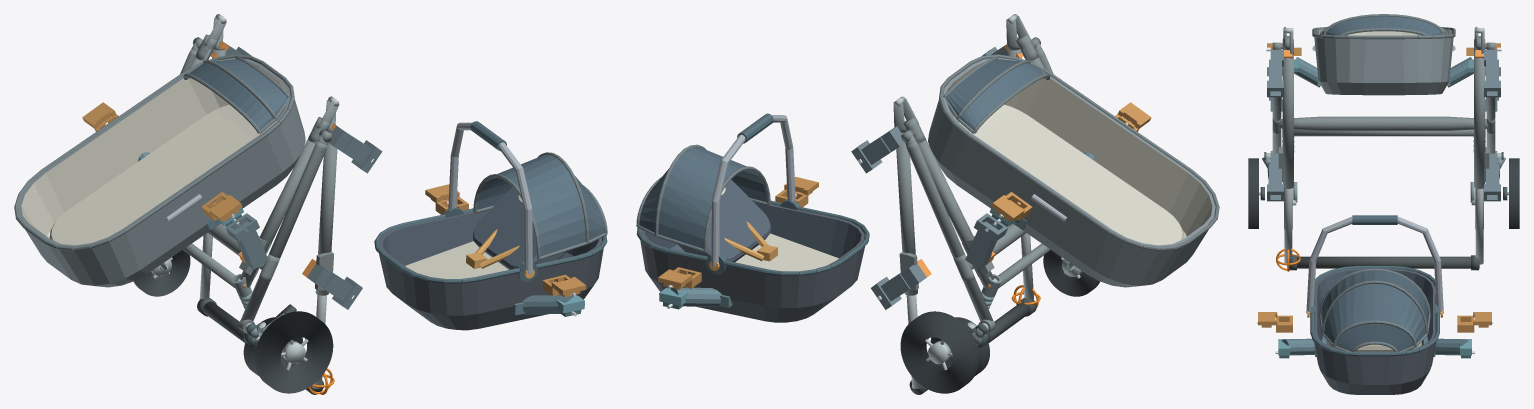
The model's file is D07_w650_state3_wheel_S.glb.
The picture shows the model from 3 angles, left to right: view 1: azimuth 30°, elevation 25°; view 2: azimuth 150°, elevation 25°; view 3: azimuth 270°, elevation 25°; orthographic projection. The views are drawn at different scales.
Parts seen in each view (by area): view 1: D07_Lower, D07_Upper, RL_tire.011, V46_rear_leg_-1.011, main_lower_-1.012, main_upper_-1.012, D07_Upper_Mount_H, Universal_Cabin_Receiver_L_-1, FR_tire.011, Universal_Cabin_Receiver_H_-1, Universal_Cabin_Receiver_M_-1, D02_WideAdapter_L_-1 (+6 smaller); view 2: D07_Lower, D07_Upper, RR_tire.011, V46_rear_leg_1.011, main_lower_1.012, main_upper_1.012, D07_Upper_Mount_H, Universal_Cabin_Receiver_L_1, FL_tire.011, Universal_Cabin_Receiver_H_1, Universal_Cabin_Receiver_M_1, D02_WideAdapter_L_1 (+7 smaller); view 3: D07_Upper, D07_Lower, V46_rearbar.011, round_handle.013, main_upper_1.012, main_upper_-1.012, D07_Upper_Mount_H, front_fixed_round_tube.011, D07_Lower_Mount_L, RL_tire.011, RR_tire.011, Universal_Cabin_Receiver_M_-1 (+10 smaller).
Part boxes in pixels (x1,y1,x2,y2): D07_Lower: (14,54,305,287); D07_Upper: (374,121,607,330); RL_tire.011: (254,311,333,393); V46_rear_leg_-1.011: (241,141,327,320); main_lower_-1.012: (239,137,319,287); main_upper_-1.012: (315,132,337,295); D07_Upper_Mount_H: (511,295,584,316); Universal_Cabin_Receiver_L_-1: (225,213,268,269); FR_tire.011: (133,250,190,296); Universal_Cabin_Receiver_H_-1: (307,264,362,309); Universal_Cabin_Receiver_M_-1: (328,126,382,173); D02_WideAdapter_L_-1: (201,192,242,221); D07_Lower: (928,54,1219,287); D07_Upper: (636,113,869,322); RR_tire.011: (900,311,978,393); V46_rear_leg_1.011: (906,141,992,321); main_lower_1.012: (914,137,993,287); main_upper_1.012: (896,132,917,295); D07_Upper_Mount_H: (659,287,732,309); Universal_Cabin_Receiver_L_1: (965,213,1007,269); FL_tire.011: (1043,250,1099,296); Universal_Cabin_Receiver_H_1: (871,264,926,309); Universal_Cabin_Receiver_M_1: (851,126,904,173); D02_WideAdapter_L_1: (991,192,1032,221); D07_Upper: (1306,215,1443,394); D07_Lower: (1312,14,1455,95); V46_rearbar.011: (1279,116,1488,130); round_handle.013: (1297,256,1479,268); main_upper_1.012: (1474,54,1485,188); main_upper_-1.012: (1282,54,1293,188); D07_Upper_Mount_H: (1275,336,1474,358); front_fixed_round_tube.011: (1294,129,1473,136); D07_Lower_Mount_L: (1294,57,1473,87); RL_tire.011: (1248,158,1258,228); RR_tire.011: (1509,158,1519,228); Universal_Cabin_Receiver_M_-1: (1267,49,1283,97).
Bounding box in the file's own units: 1.53 × 0.7726 × 0.766.
